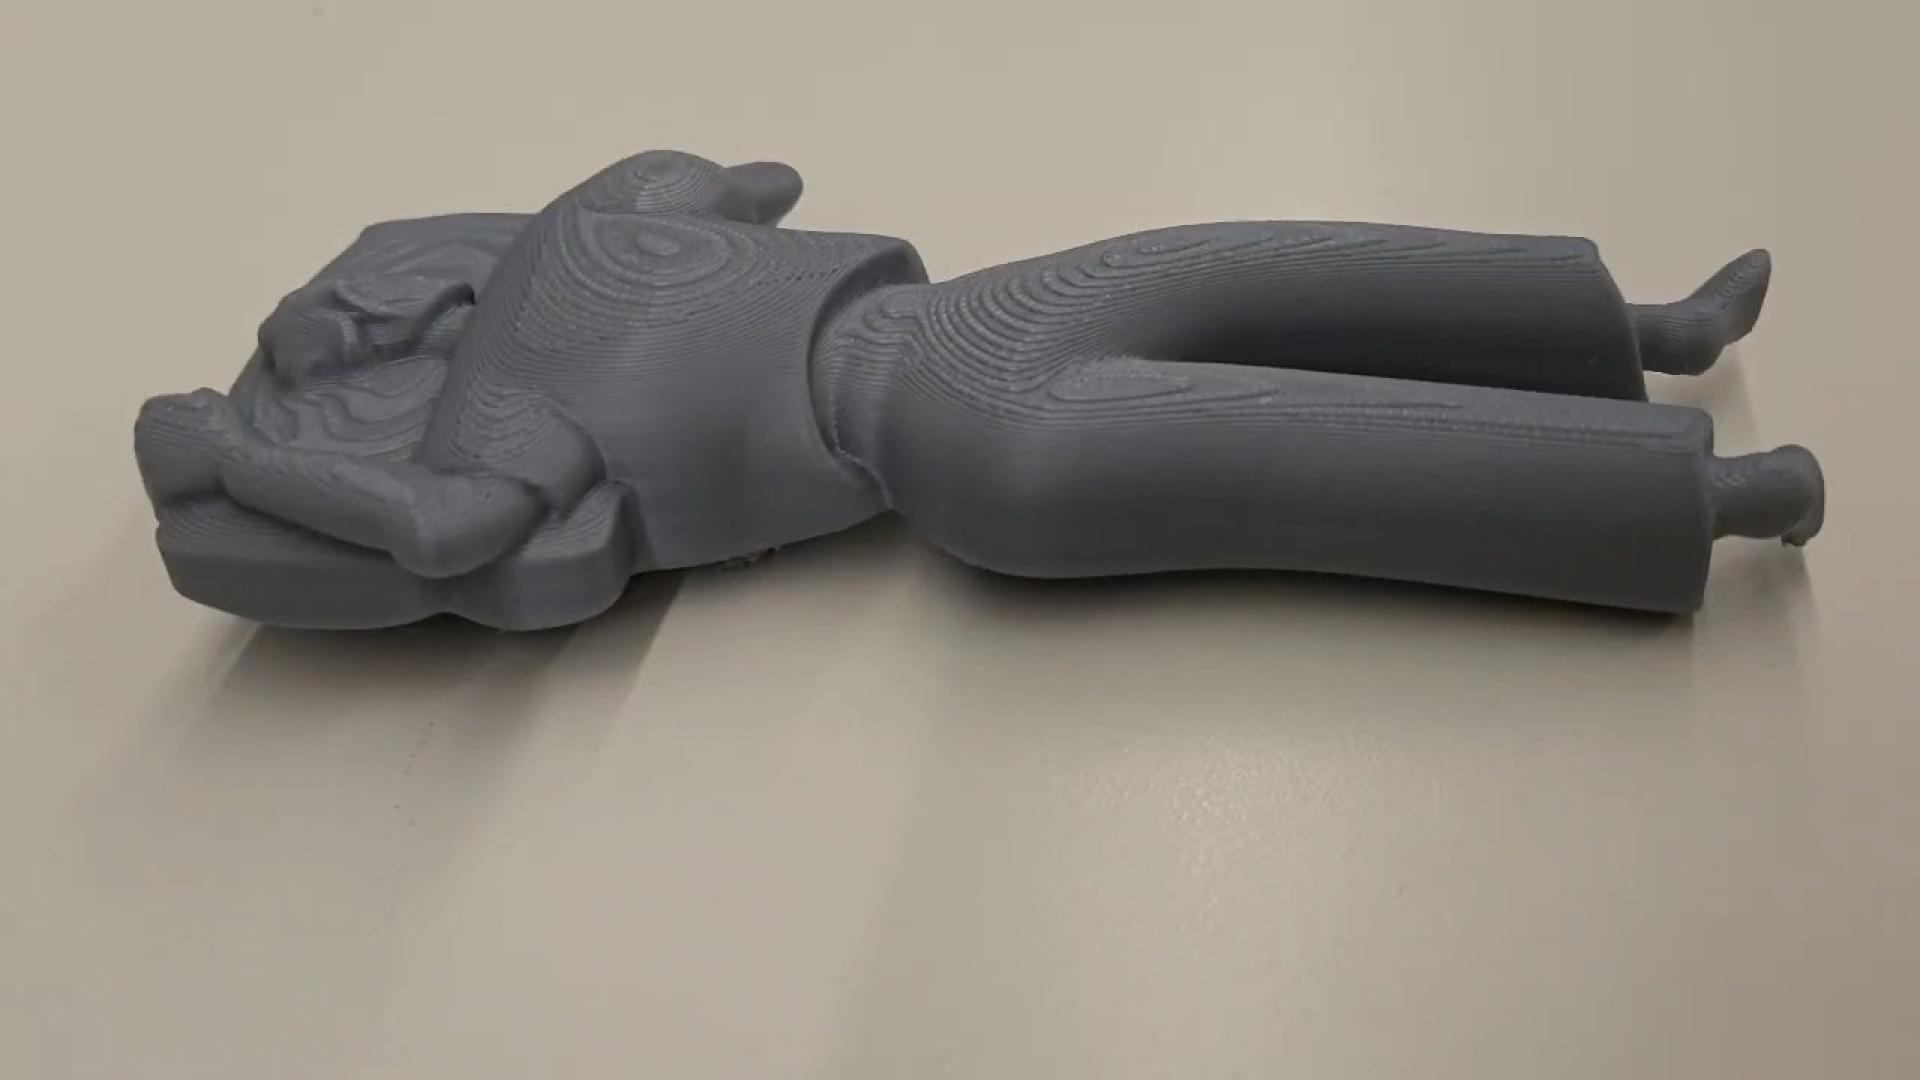Bad-style: (128, 142, 1830, 641)
